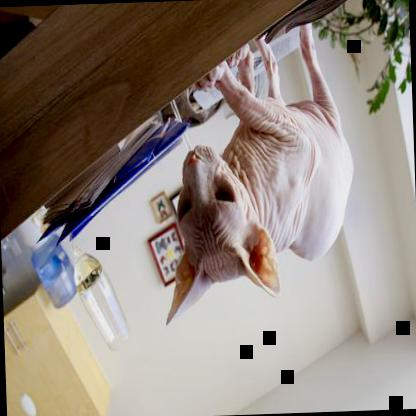cat: (155, 22, 359, 328)
